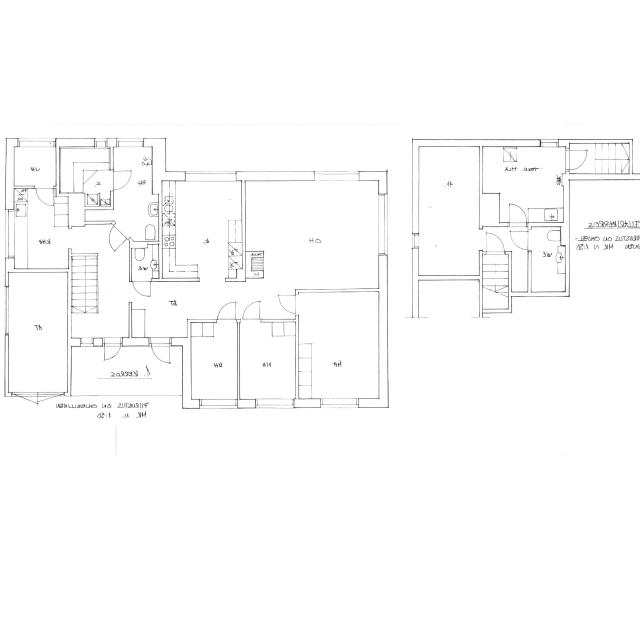door: (38, 392, 65, 423), (100, 224, 129, 252), (12, 392, 38, 423), (151, 338, 170, 365), (565, 150, 589, 169), (104, 338, 121, 363), (217, 301, 236, 323), (110, 171, 132, 190), (510, 231, 531, 250), (277, 296, 299, 314), (509, 206, 526, 227), (487, 234, 504, 254), (243, 302, 260, 322), (133, 278, 150, 298), (36, 186, 53, 205)
